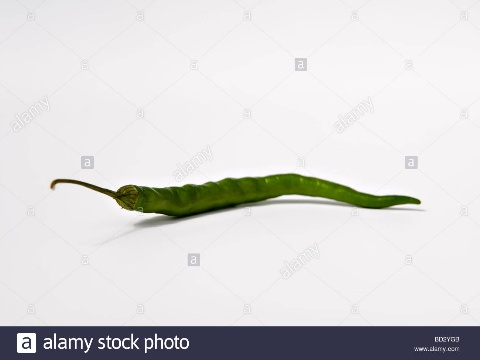Chilli: (43, 163, 437, 230)
